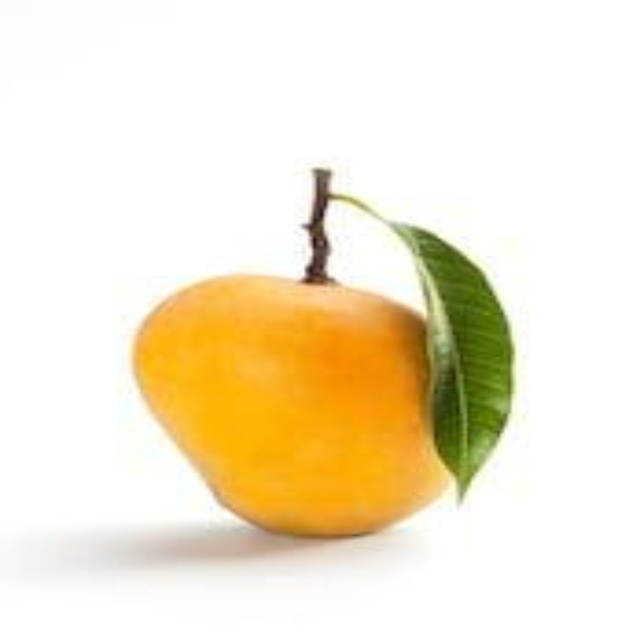mango: (112, 260, 524, 563)
